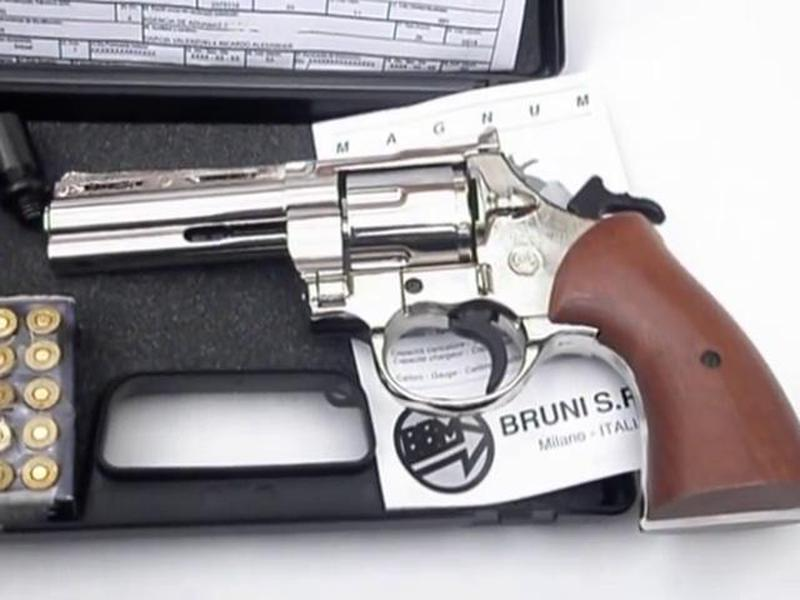Revolver: (49, 123, 673, 403)
